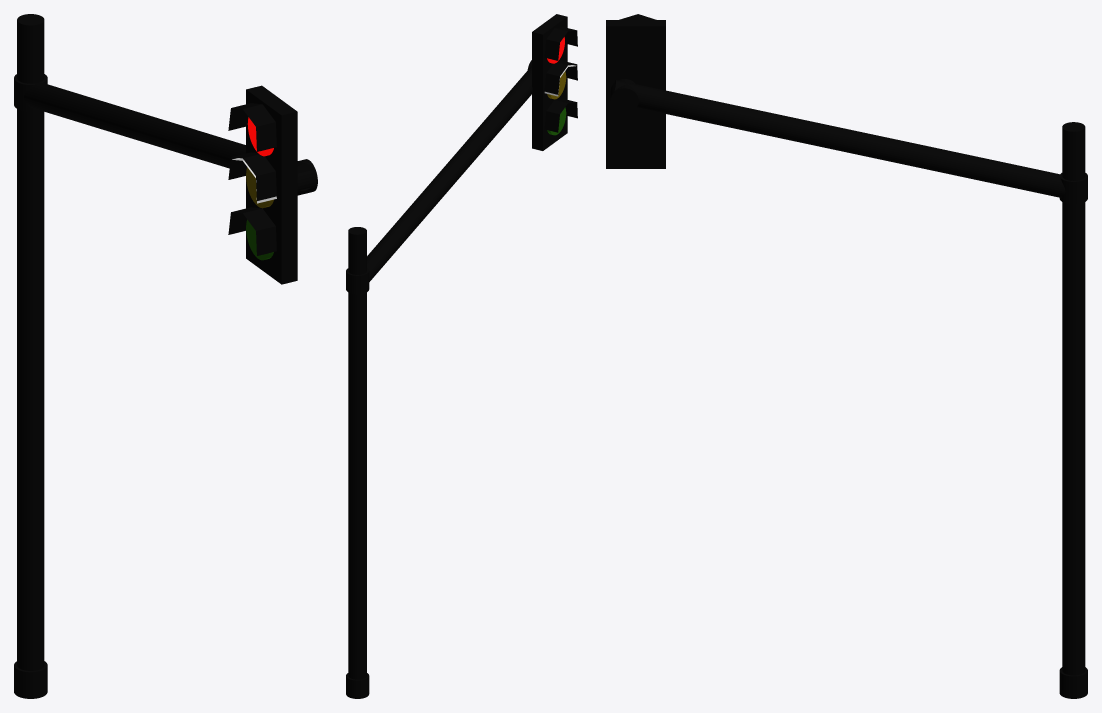
File: trafficLight.glb
3 views of the same model, side by side, from view 1: azimuth 30°, elevation 25°; view 2: azimuth 150°, elevation 25°; view 3: azimuth 270°, elevation 25° (orthographic). The views are drawn at different scales.
Parts seen in each view (by area): view 1: Цилиндр.003, Плоскость; view 2: Цилиндр.003, Плоскость; view 3: Цилиндр.003, Плоскость.
Boxes of the visible parts, x1=… form: Цилиндр.003: x1=14, y1=14, x2=317, y2=698; Плоскость: x1=228, y1=85, x2=297, y2=284; Цилиндр.003: x1=346, y1=60, x2=532, y2=698; Плоскость: x1=532, y1=14, x2=577, y2=150; Цилиндр.003: x1=610, y1=79, x2=1087, y2=698; Плоскость: x1=606, y1=14, x2=665, y2=168.
Size of the model in its own units: 1.31 by 16.01 by 10.56.
